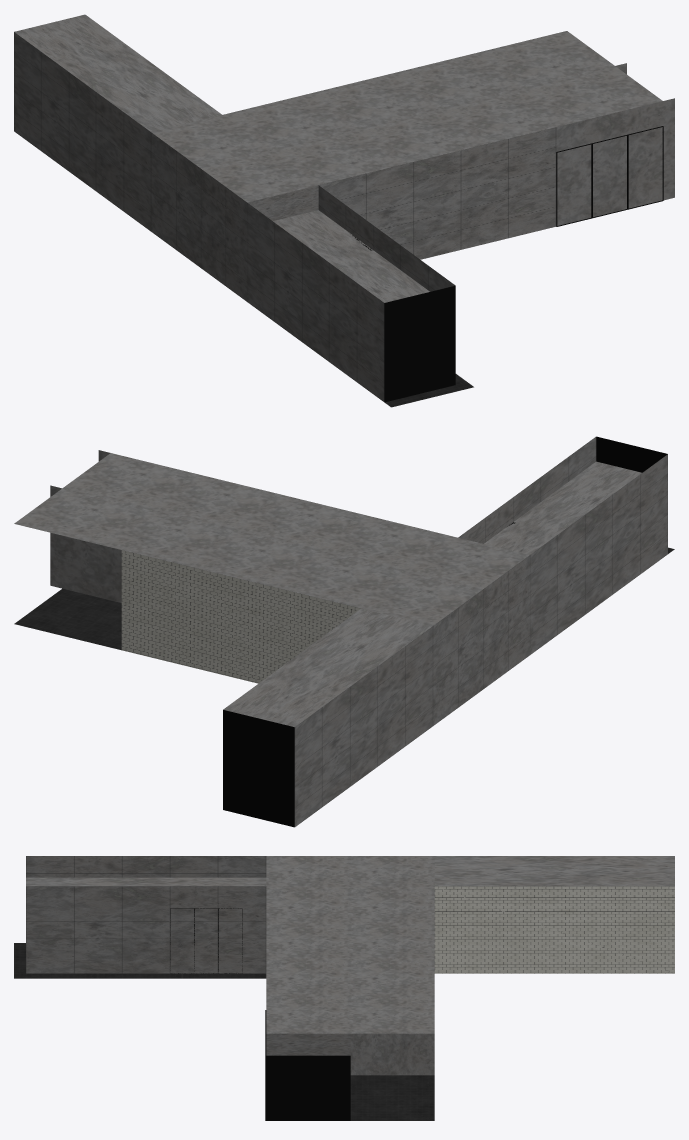
File: CLA A floor.fbx
The picture shows the model from 3 angles, top to bottom: view 1: azimuth 30°, elevation 25°; view 2: azimuth 150°, elevation 25°; view 3: azimuth 270°, elevation 25°; orthographic projection. The views are drawn at different scales.
Parts seen in each view (by area): view 1: Plane.004, Plane.015, Plane.011, Plane.013, Plane.007, Plane.010, Plane.012, Plane.021, Plane.017, Plane.016, Plane.018, Cube.001 (+1 smaller); view 2: Plane.004, Plane.006, Plane.011, Plane.013, Plane.012, Plane.010, Plane.020, Plane.017, Plane.014, Plane.009, Plane.016, Plane.021; view 3: Plane.004, Plane.001, Plane.016, Plane.012, Plane.002, Plane.013, Plane.014, Plane.019, Plane.017, Plane.003, Plane.005.
Boxes of the visible parts, box(x1,y1,x2,y2) form: Plane.004: box(151, 31, 662, 202); Plane.015: box(319, 127, 556, 259); Plane.011: box(14, 32, 151, 231); Plane.013: box(247, 203, 384, 401); Plane.007: box(556, 98, 674, 225); Plane.010: box(151, 132, 247, 301); Plane.012: box(14, 14, 221, 132); Plane.021: box(384, 285, 455, 402); Plane.017: box(273, 210, 429, 302); Plane.016: box(318, 185, 455, 291); Plane.018: box(247, 185, 318, 220); Cube.001: box(556, 126, 663, 226); Plane.004: box(14, 453, 529, 625); Plane.006: box(121, 550, 360, 683); Plane.011: box(294, 626, 432, 826); Plane.013: box(530, 454, 667, 654); Plane.012: box(223, 608, 432, 727); Plane.010: box(433, 555, 529, 725); Plane.020: box(223, 710, 294, 827); Plane.017: box(484, 461, 641, 554); Plane.014: box(14, 588, 121, 650); Plane.009: box(50, 485, 121, 602); Plane.016: box(458, 437, 596, 543); Plane.021: box(596, 436, 667, 472); Plane.004: box(266, 856, 434, 1033); Plane.001: box(434, 886, 674, 973); Plane.016: box(26, 886, 266, 973); Plane.012: box(434, 856, 674, 886); Plane.002: box(266, 1055, 350, 1120); Plane.013: box(26, 856, 266, 877); Plane.014: box(350, 1075, 434, 1120); Plane.019: box(350, 1033, 434, 1075); Plane.017: box(26, 877, 266, 886); Plane.003: box(266, 1033, 350, 1055); Plane.005: box(14, 943, 266, 978).
Size of the model in its own units: 1800 by 400 by 2750.
